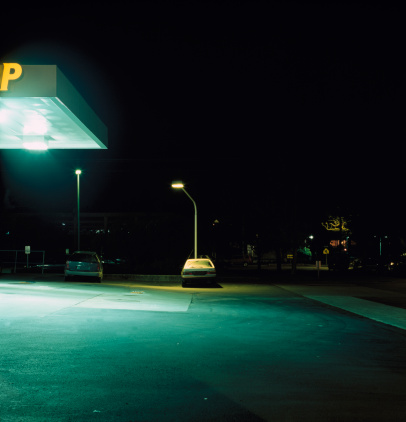car: (59, 248, 107, 286)
